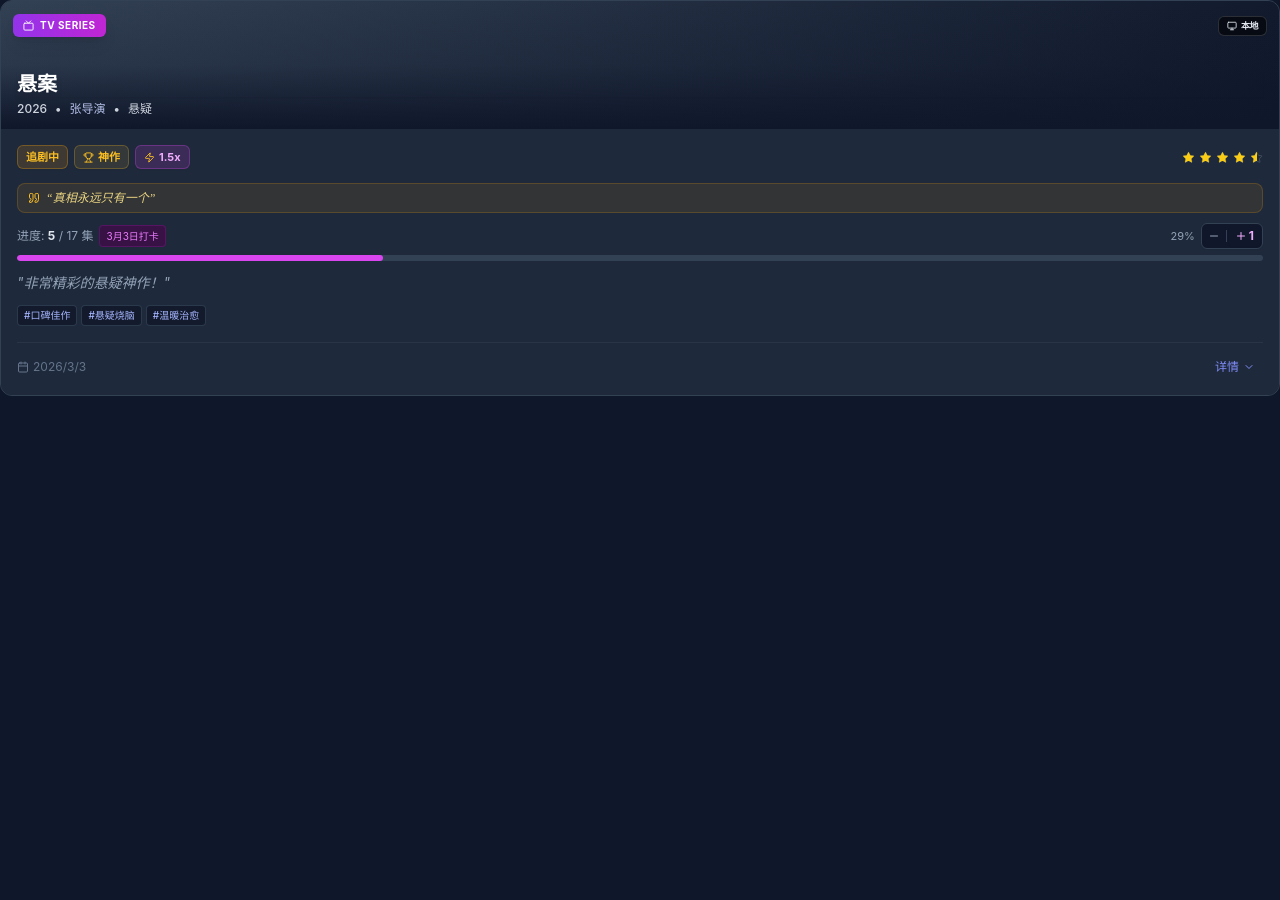
Test: MovieCard 独立放大展开与收起测试 › 点击“详情”后弹出独立放大卡片视窗，展示完整剧情简介、倍速流水与收起按钮
The image size is (1280, 900).
Click the button "详情".
click(1235, 367)  # box x1=1207 y1=355 x2=1263 y2=379
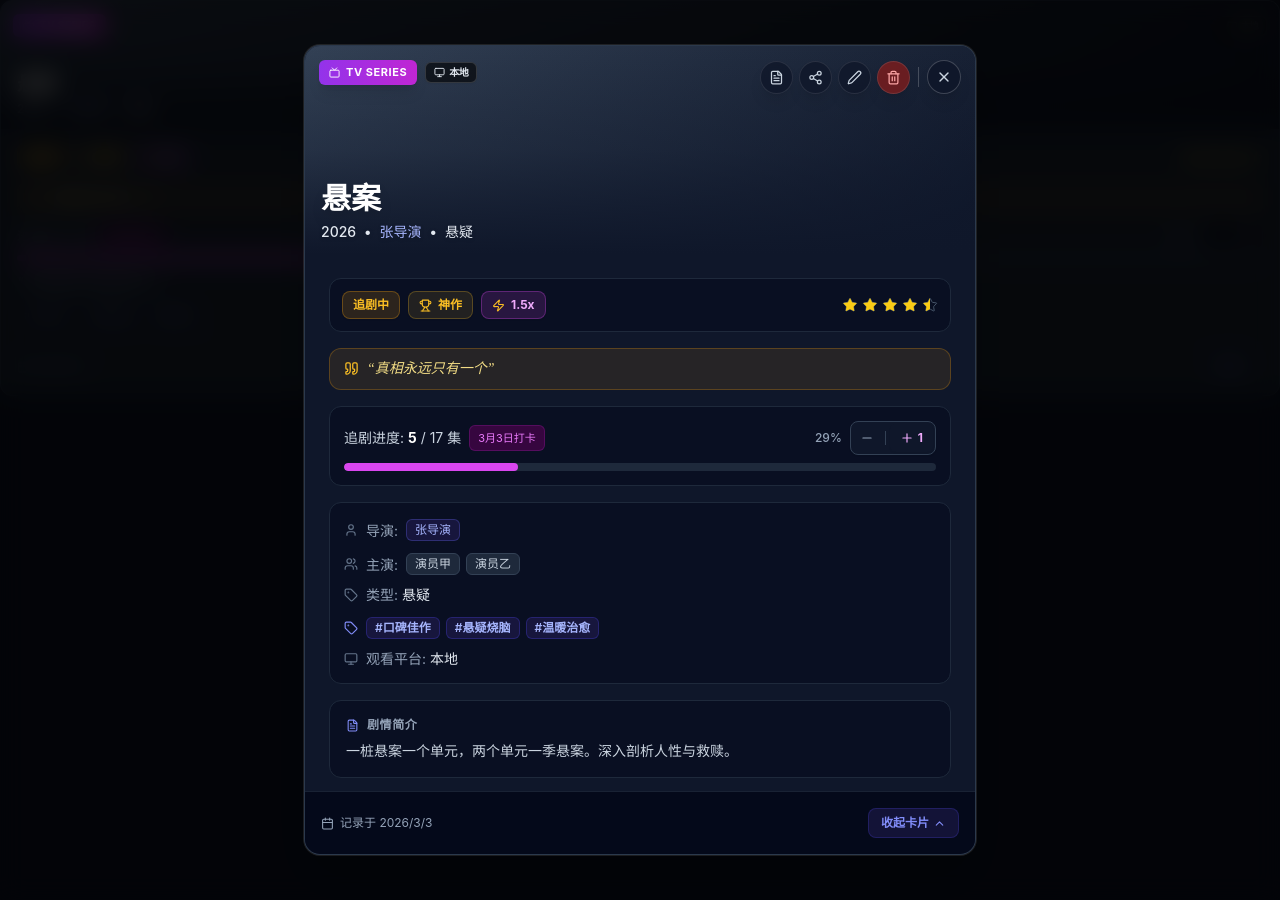
Result: the button "收起卡片" is shown
Result: the text "一桩悬案一个单元，两个单元一季悬案。深入剖析人性与救赎。" is shown at x1=346 y1=742 x2=738 y2=759
Note: 点击“收起卡片”按钮，弹窗关闭
Click the button "收起卡片".
click(914, 823)  # box x1=868 y1=808 x2=959 y2=838
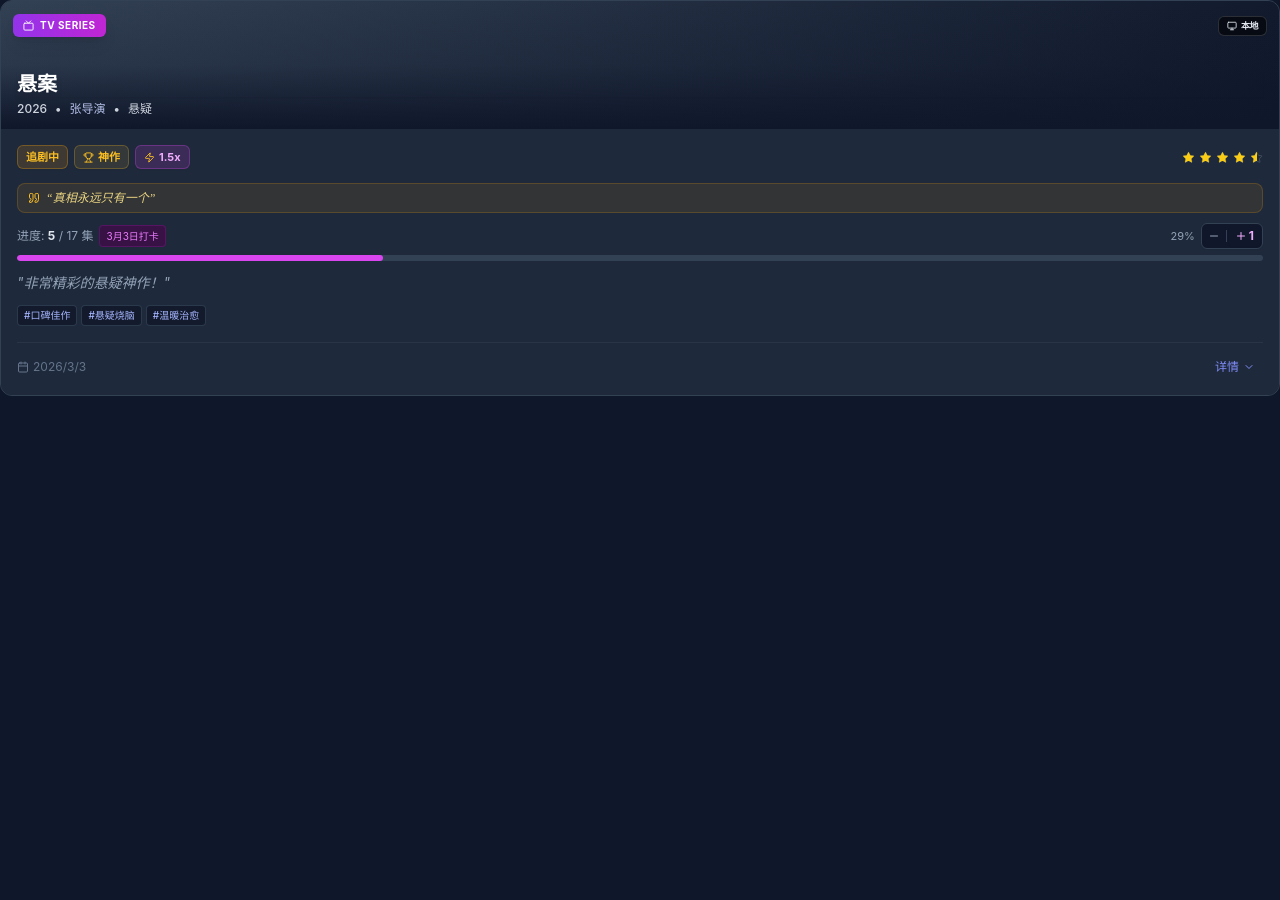
Result: the button "收起卡片" is gone
